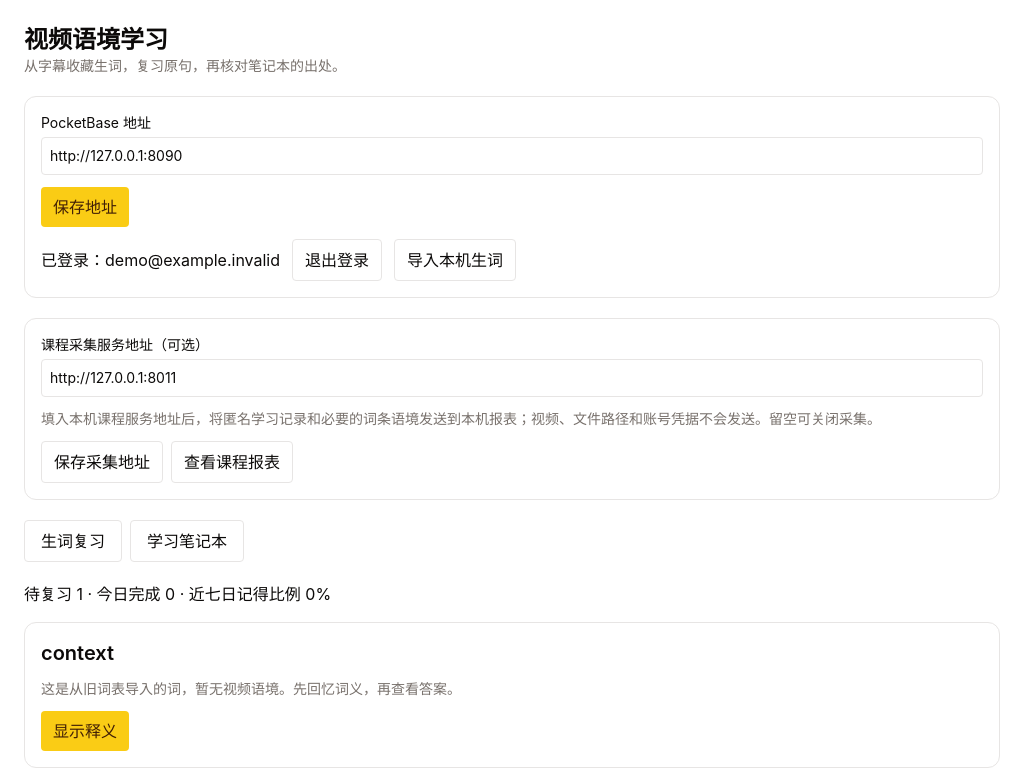
Test: 课程采集在学习页的反馈 › 留空保存后关闭课程采集并移除报表入口
The width and height of the screenshot is (1024, 768).
Expected: the button "查看课程报表" is shown, [171, 441, 293, 483]
Clear the field labelled "课程采集服务地址（可选）" at (512, 378), box [41, 359, 983, 397]
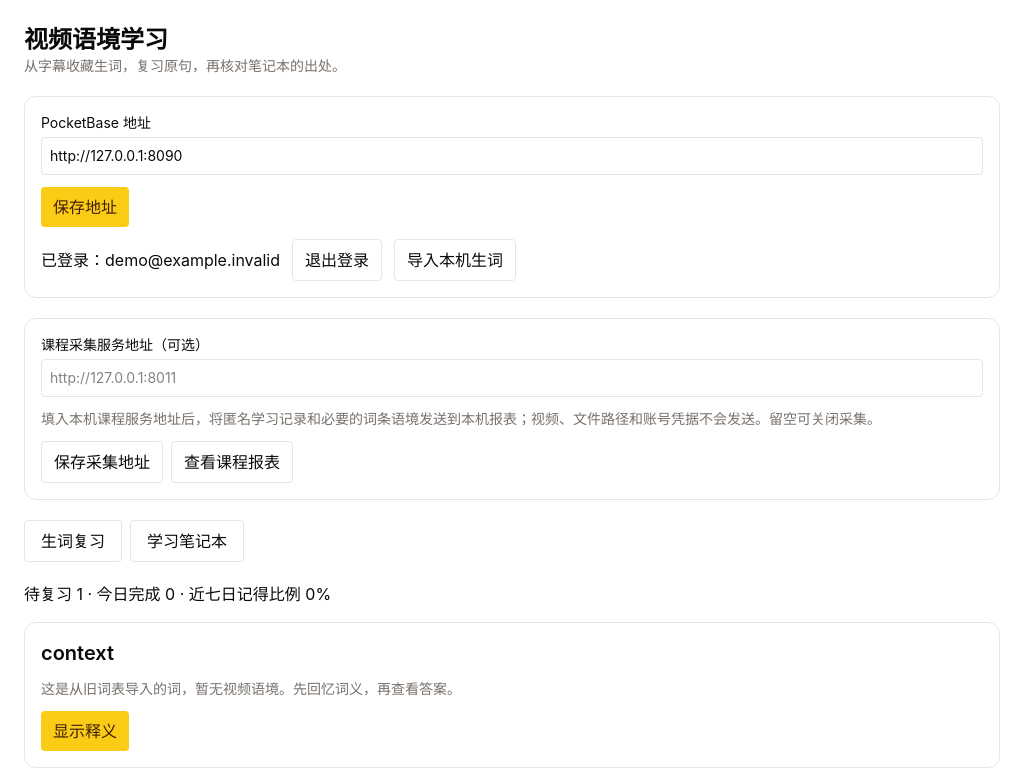
Click the button "保存采集地址" at (102, 462), box [41, 441, 163, 483]
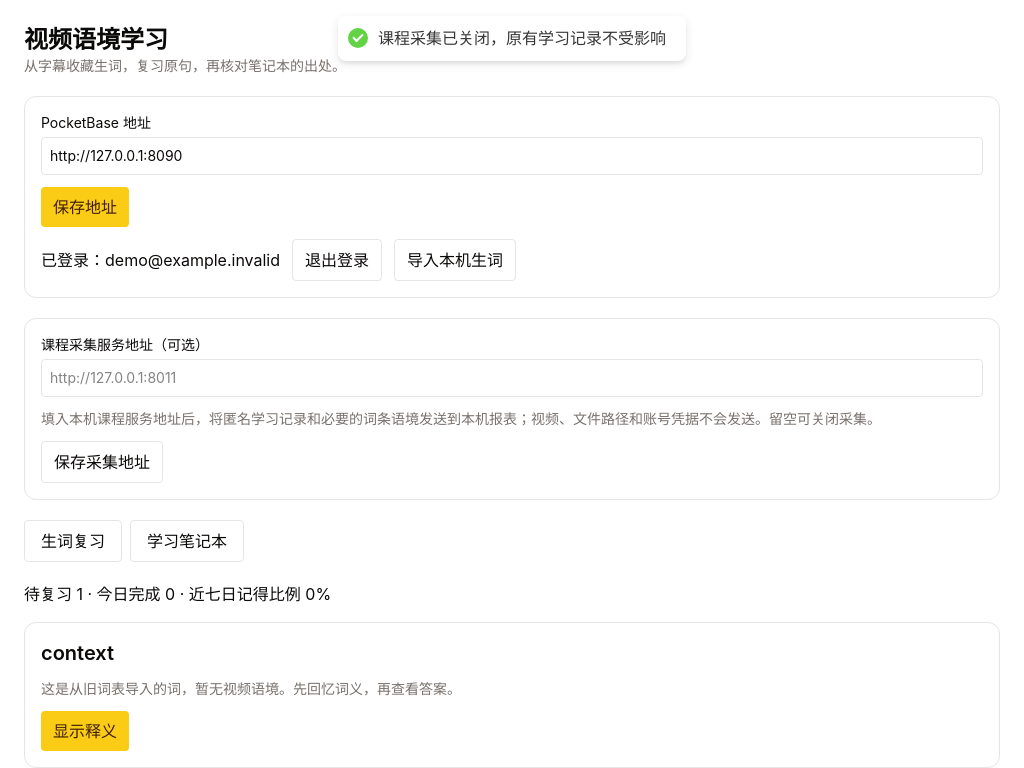
Expected: the heading "context" is shown, [41, 641, 114, 665]
Expected: the text "课程采集已关闭，原有学习记录不受影响" is shown, [378, 28, 666, 49]
Expected: the button "查看课程报表" is gone
